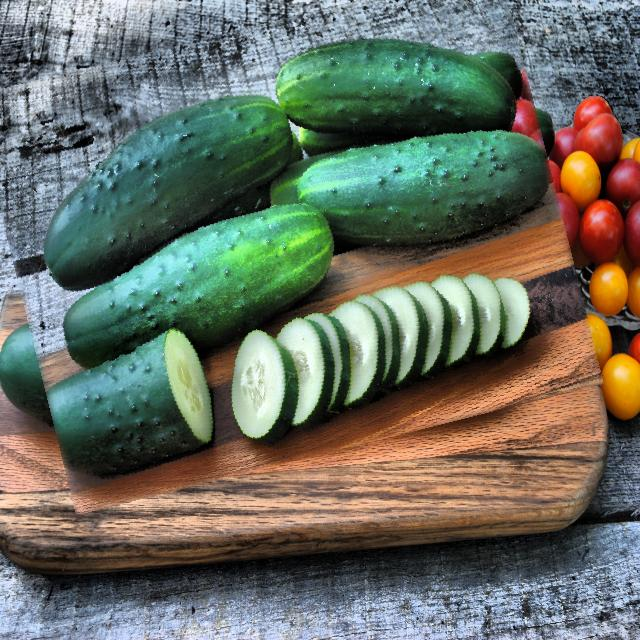cucumber: (0, 0, 581, 485)
